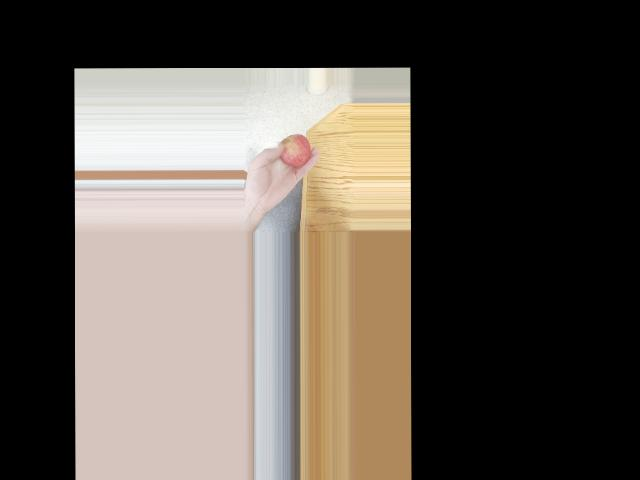apple: (277, 132, 309, 167)
